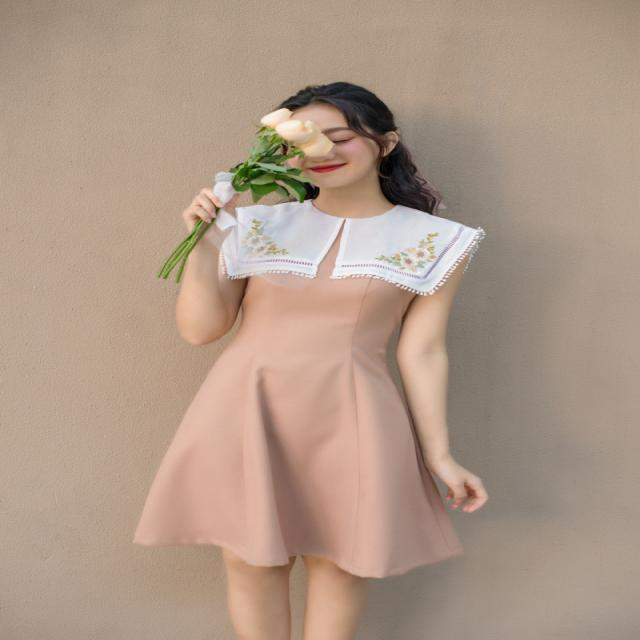clothes: (143, 189, 500, 582)
